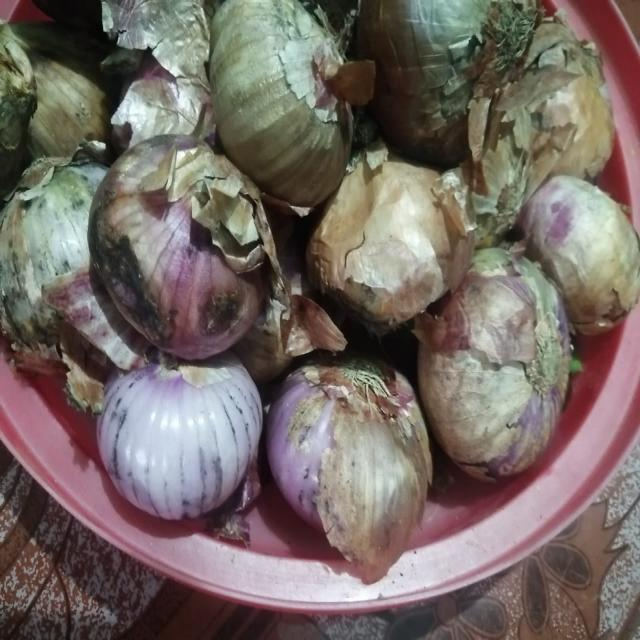rotten: (88, 234, 186, 346), (21, 266, 70, 370), (402, 41, 450, 146)
